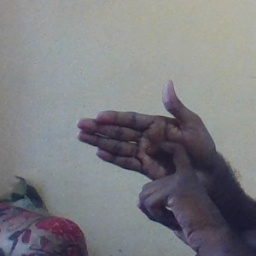R: (75, 81, 213, 207)
